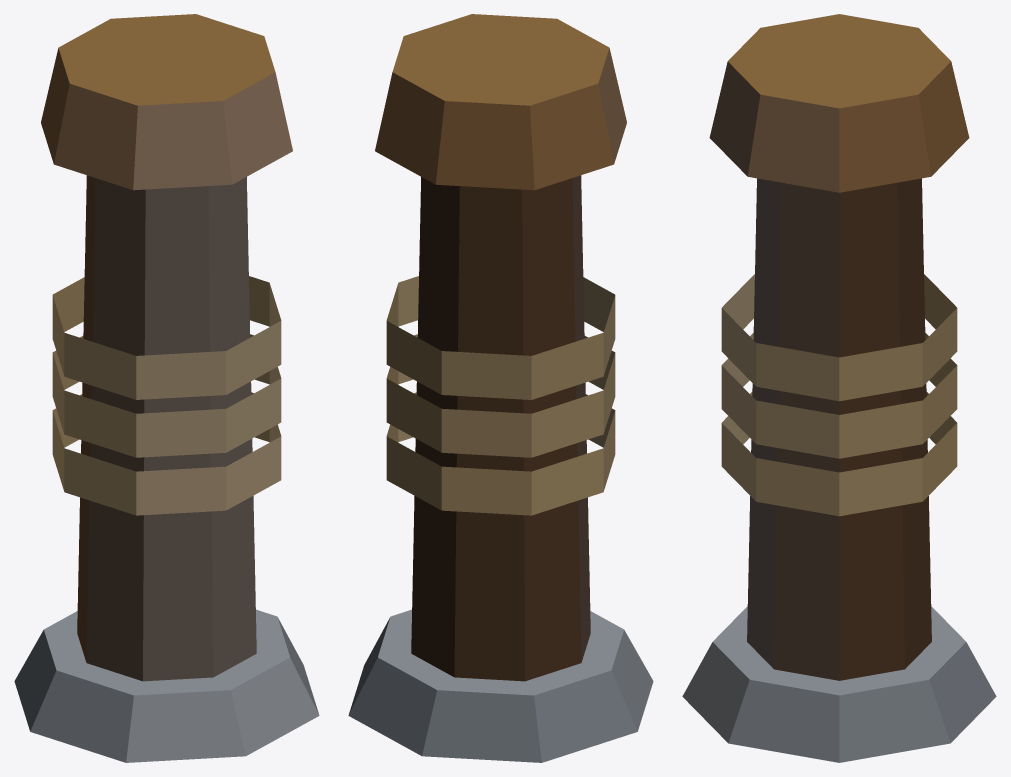
The model's file is mooring_post.glb.
3 views of the same model, side by side, from view 1: azimuth 30°, elevation 25°; view 2: azimuth 150°, elevation 25°; view 3: azimuth 270°, elevation 25° (orthographic).
Visible parts, largest first — view 1: mooring_post; view 2: mooring_post; view 3: mooring_post.
Boxes of the visible parts, x1,y1,x2,y2 form: mooring_post: [14, 14, 319, 762]; mooring_post: [348, 14, 653, 762]; mooring_post: [682, 14, 996, 762].
Bounding box in the file's own units: 0.52 × 1.16 × 0.52.
